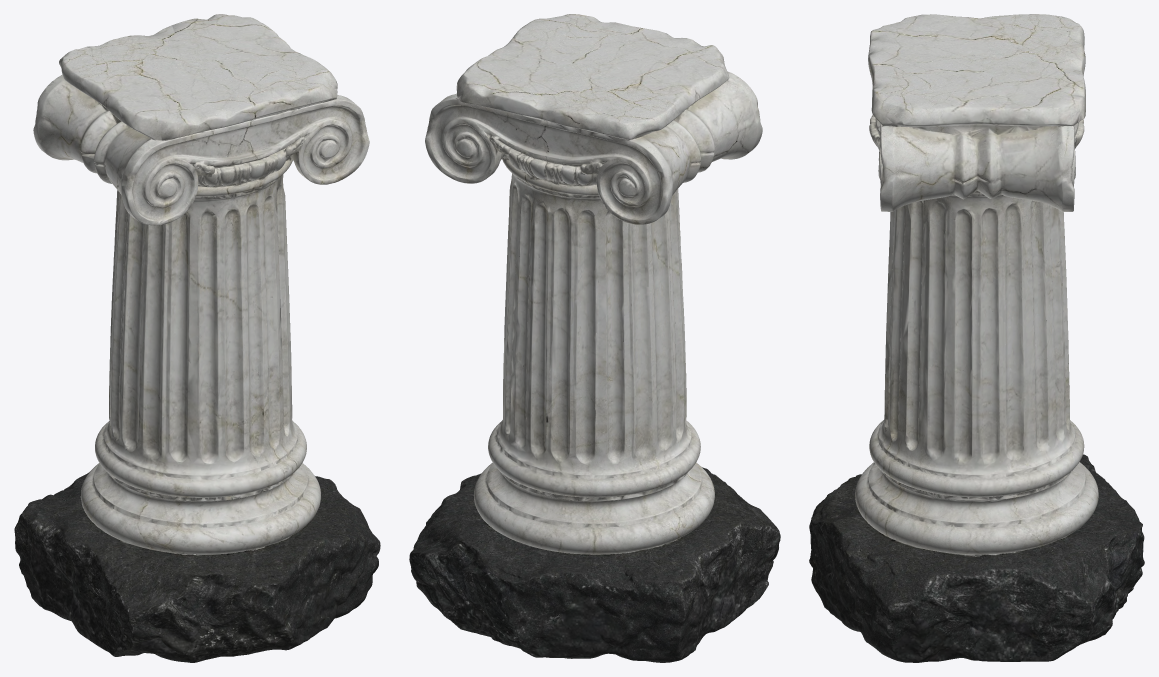
Rendered from column.glb.
The picture shows the model from 3 angles, left to right: view 1: azimuth 30°, elevation 25°; view 2: azimuth 150°, elevation 25°; view 3: azimuth 270°, elevation 25°; orthographic projection.
Size of the model in its own units: 1.03 by 1.9 by 1.07.
1 material, 1 textured.
